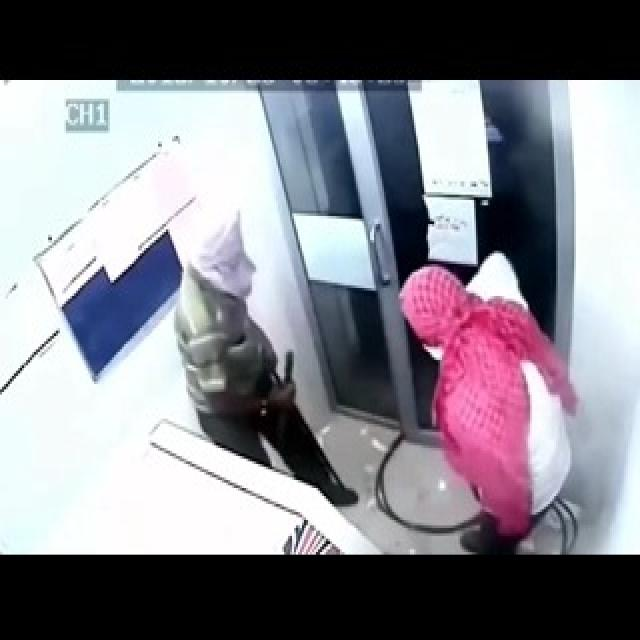thief: (368, 257, 566, 554), (174, 212, 286, 448)
